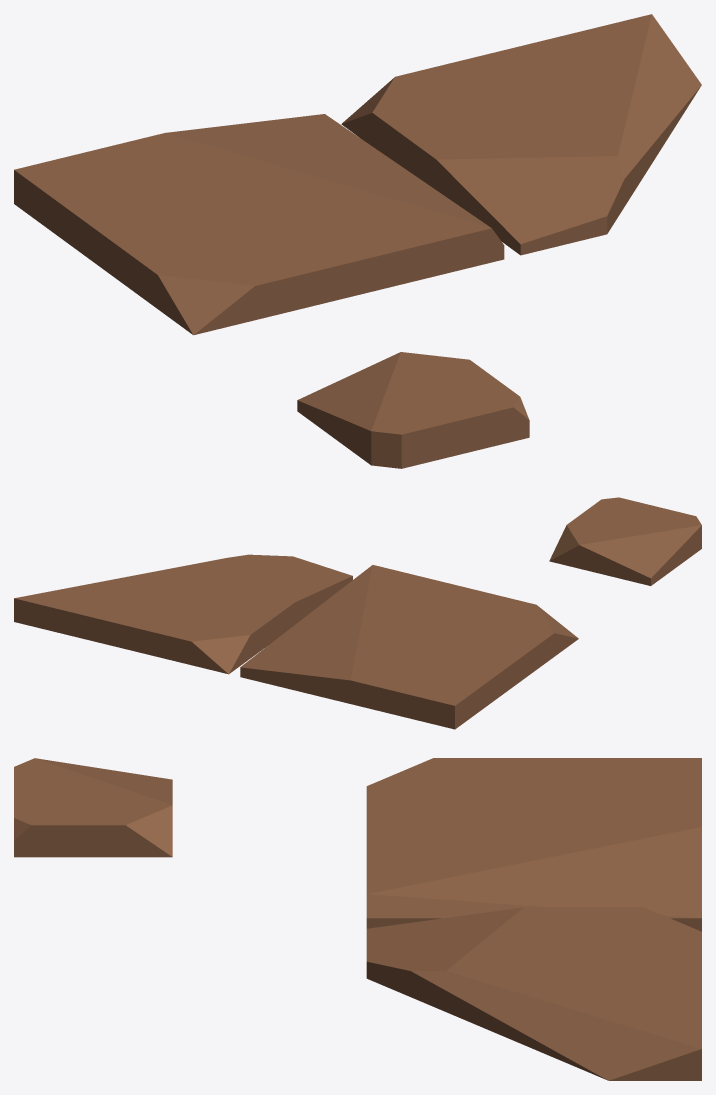
The model's file is Stonewalk_004.FBX.
3 renders of one model, top to bottom at view 1: azimuth 30°, elevation 25°; view 2: azimuth 150°, elevation 25°; view 3: azimuth 270°, elevation 25°, orthographic. The views are drawn at different scales.
Visible parts, largest first — view 1: Stonewalk_004; view 2: Stonewalk_004; view 3: Stonewalk_004.
Part boxes in pixels (x1,y1,x2,y2): Stonewalk_004: [14, 14, 701, 468]; Stonewalk_004: [14, 497, 701, 729]; Stonewalk_004: [14, 758, 701, 1080].
Bounding box in the file's own units: 76.77 × 3.94 × 76.77.
